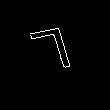L_S: (30, 27, 80, 83)
